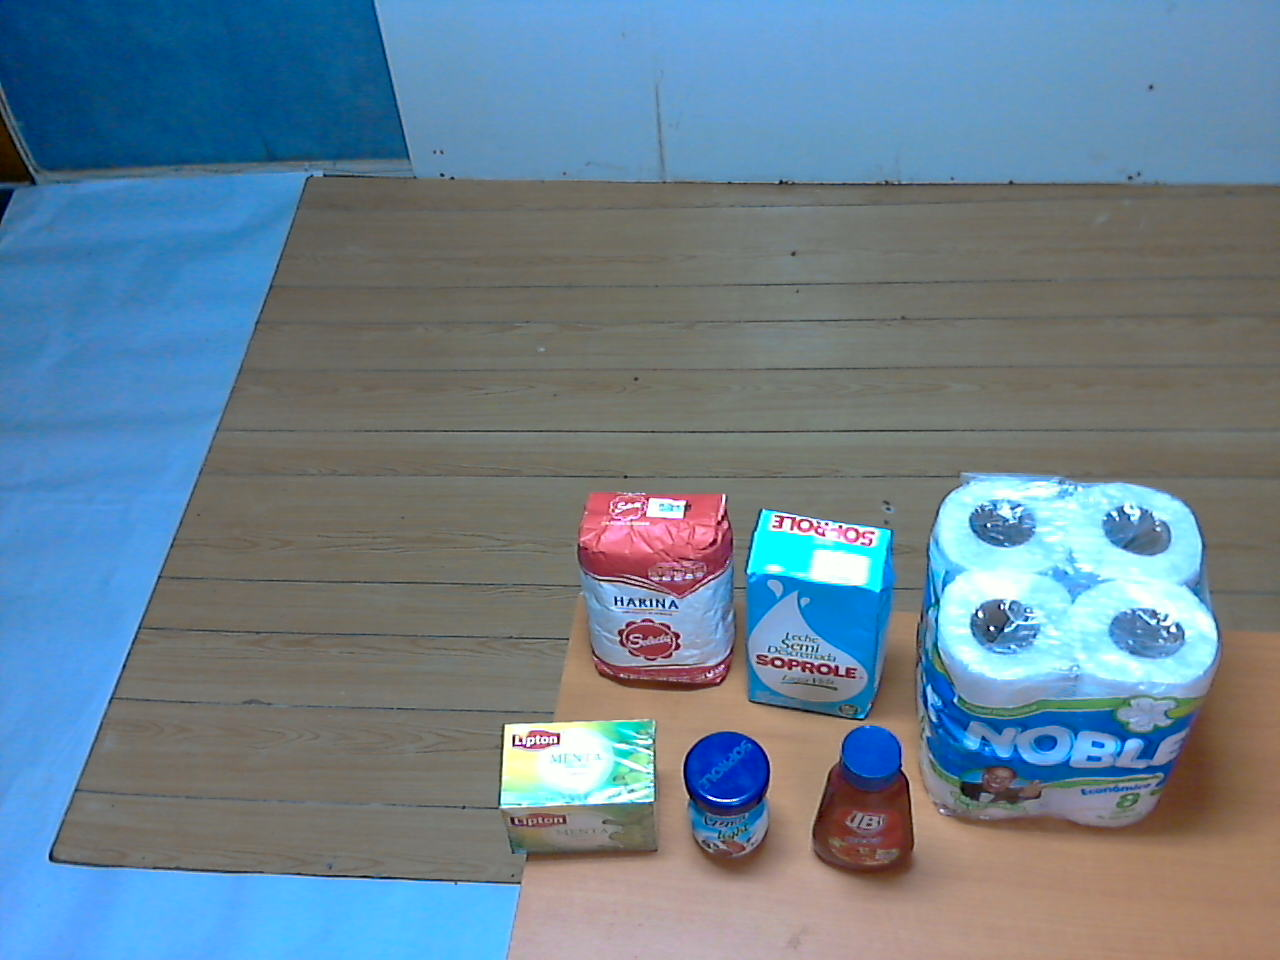confort: (910, 467, 1221, 844)
crema: (680, 726, 777, 870)
harina: (569, 484, 738, 695)
ketchup: (807, 722, 923, 886)
leche: (736, 497, 898, 722)
te: (498, 713, 660, 863)
